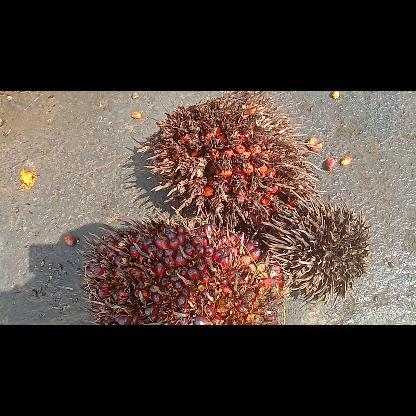Janjang kosong: (262, 198, 372, 304)
TBS masak: (78, 206, 288, 324)
Terlalu masak: (138, 90, 320, 233)
